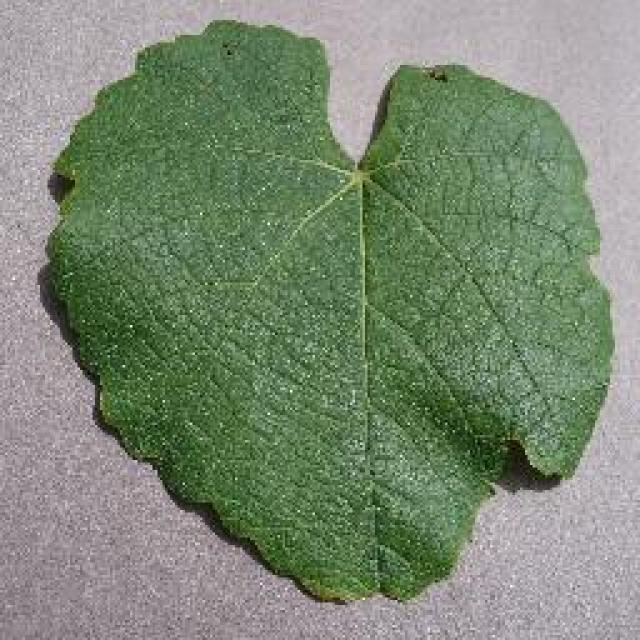Grape___healthy: (50, 20, 610, 598)
